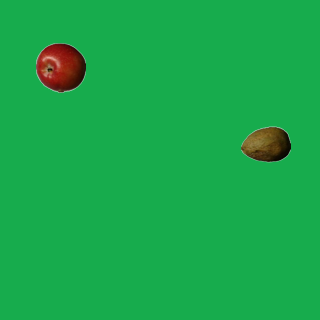Apple Braeburn: (35, 42, 85, 92)
Papaya: (240, 119, 290, 169)
